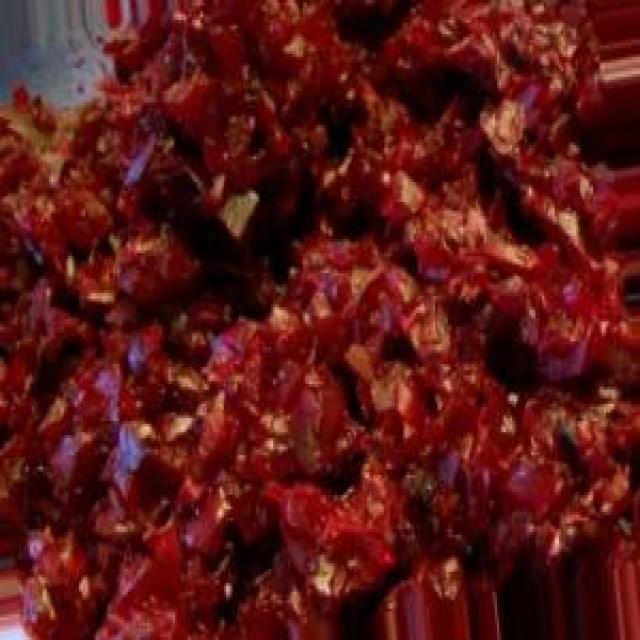healthy coral: (0, 0, 640, 637)
